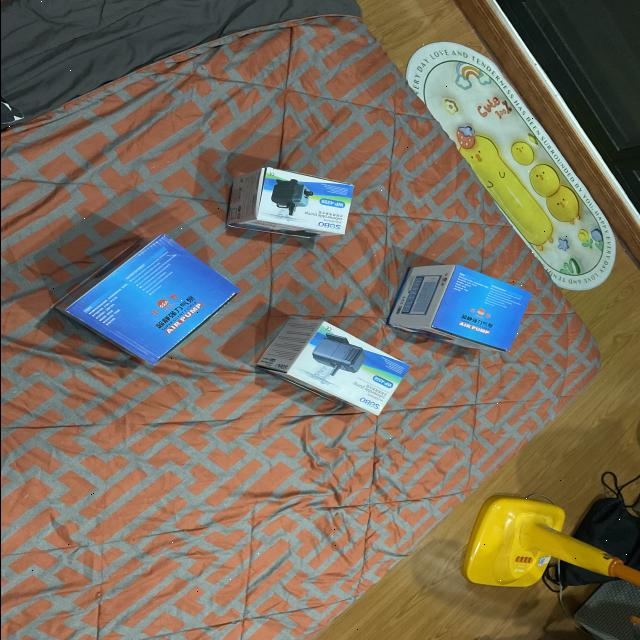SOBO_WP_4200: (228, 308, 414, 448), (216, 152, 368, 246)
YAMANO_LPP_20: (41, 227, 249, 379), (377, 255, 550, 362)
